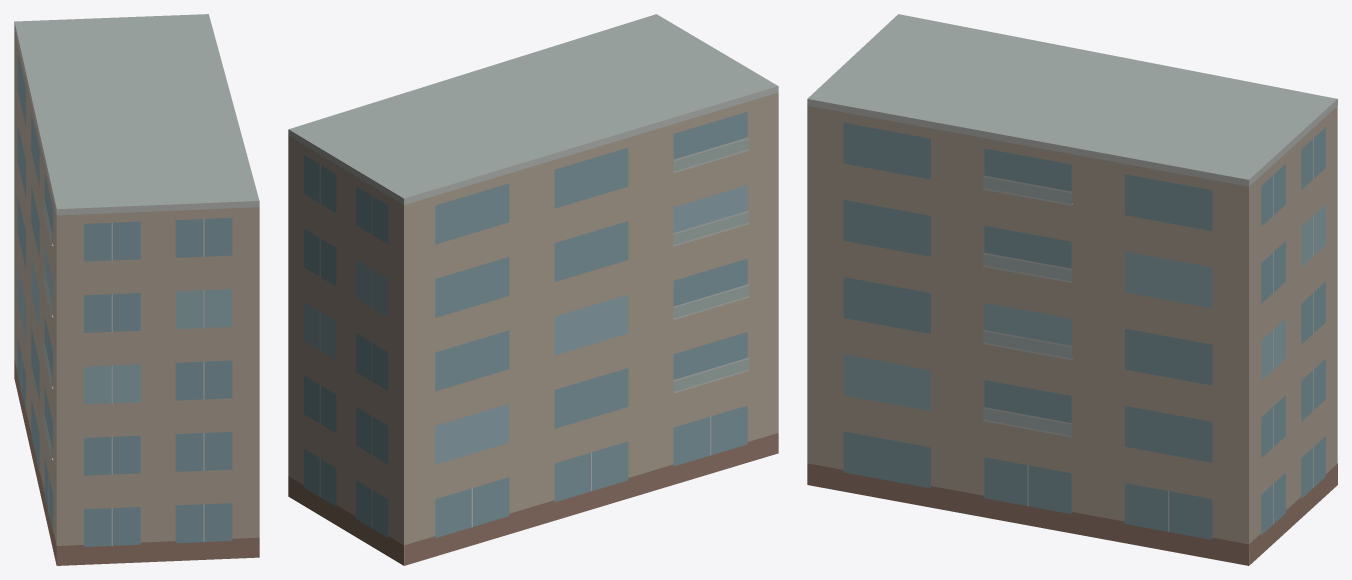
File: survey-upis-32633828.glb
3 renders of one model, left to right at view 1: azimuth 30°, elevation 25°; view 2: azimuth 150°, elevation 25°; view 3: azimuth 270°, elevation 25°, orthographic. The views are drawn at different scales.
Parts seen in each view (by area): view 1: survey-upis-32633828.tmp; view 2: survey-upis-32633828.tmp; view 3: survey-upis-32633828.tmp.
Part boxes in pixels (bbox=[...]): survey-upis-32633828.tmp: bbox=[14, 14, 259, 565]; survey-upis-32633828.tmp: bbox=[288, 14, 778, 565]; survey-upis-32633828.tmp: bbox=[807, 14, 1337, 565].
Size of the model in its own units: 12.82 by 13.9 by 17.33.
